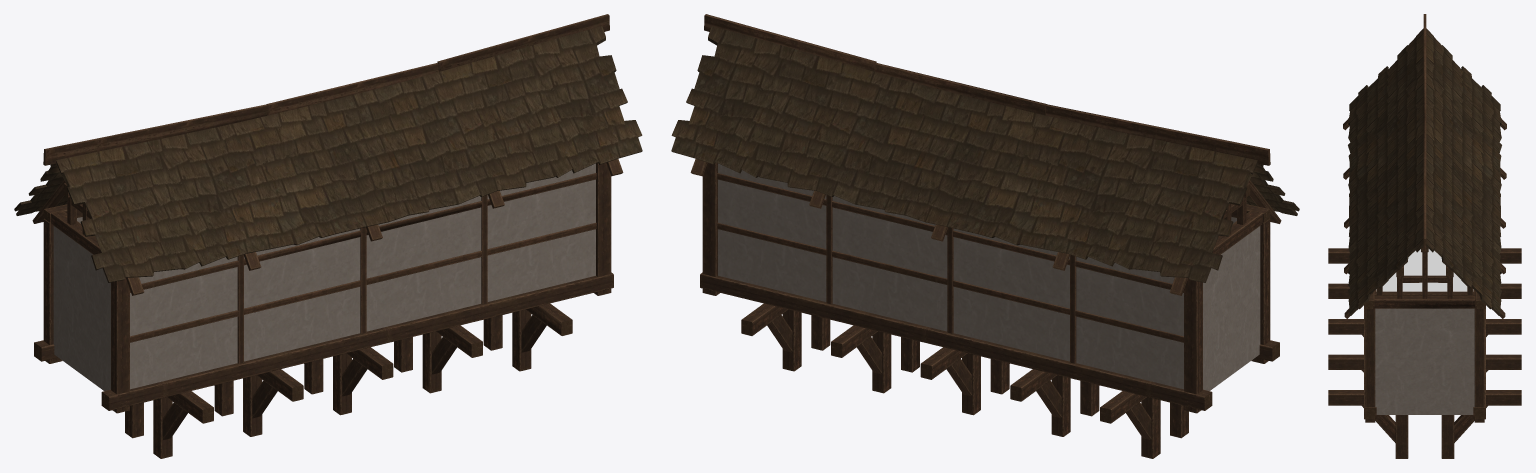
Rendered from Building1d.glb.
The picture shows the model from 3 angles, left to right: view 1: azimuth 30°, elevation 25°; view 2: azimuth 150°, elevation 25°; view 3: azimuth 270°, elevation 25°; orthographic projection. The views are drawn at different scales.
Parts seen in each view (by area): view 1: roof, wall1, beams00; view 2: roof, wall1, beams00; view 3: roof, beams00, wall1, floor5.
Boxes of the visible parts, x1,y1,x2,y2 form: roof: (14, 26, 642, 282); wall1: (53, 163, 595, 390); beams00: (32, 14, 623, 458); roof: (671, 26, 1299, 282); wall1: (718, 163, 1260, 390); beams00: (690, 14, 1281, 458); roof: (1348, 28, 1501, 315); beams00: (1328, 14, 1521, 458); wall1: (1375, 308, 1474, 414); floor5: (1376, 249, 1473, 291).
Bounding box in the file's own units: 12.6 × 6.82 × 4.6.
3 materials, 3 textured.
